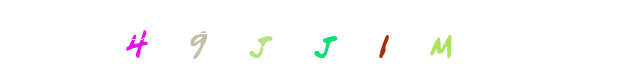4: (97, 0, 177, 80)
9: (213, 0, 293, 80)
I: (334, 0, 414, 80)
J: (270, 0, 350, 80), (286, 0, 366, 80)
M: (344, 0, 424, 80)
